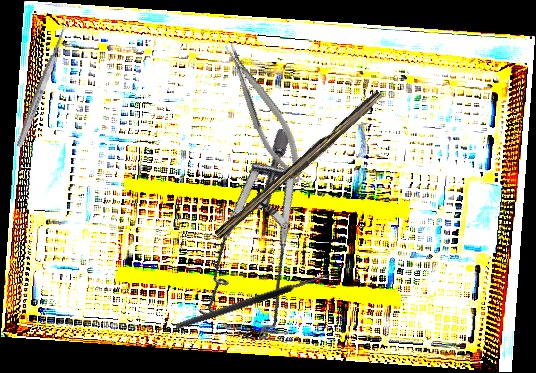Hook Surgical: (172, 259, 341, 331)
Needle Holder: (217, 35, 313, 190)
Scalpel Handle: (214, 87, 386, 245)
Speculum: (145, 124, 387, 364)
Surgical Spoon: (14, 17, 73, 149)
